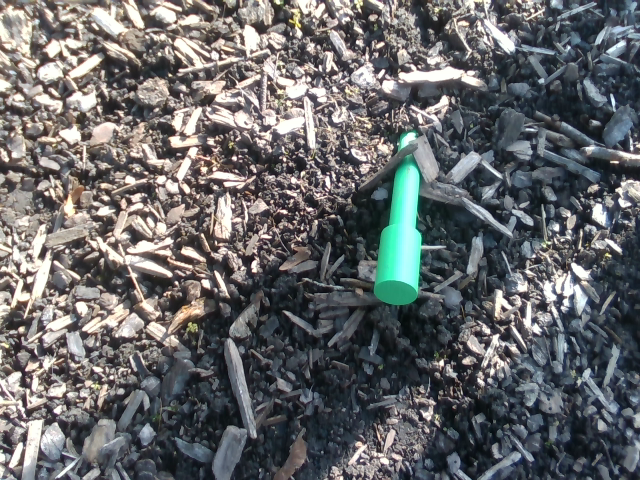Probe: (369, 105, 430, 314)
